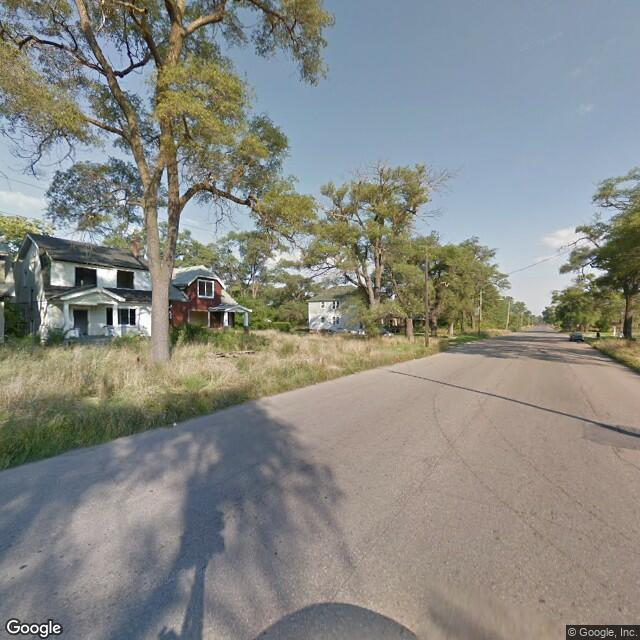litter: (411, 354, 416, 360), (172, 420, 176, 425), (312, 380, 318, 382)
